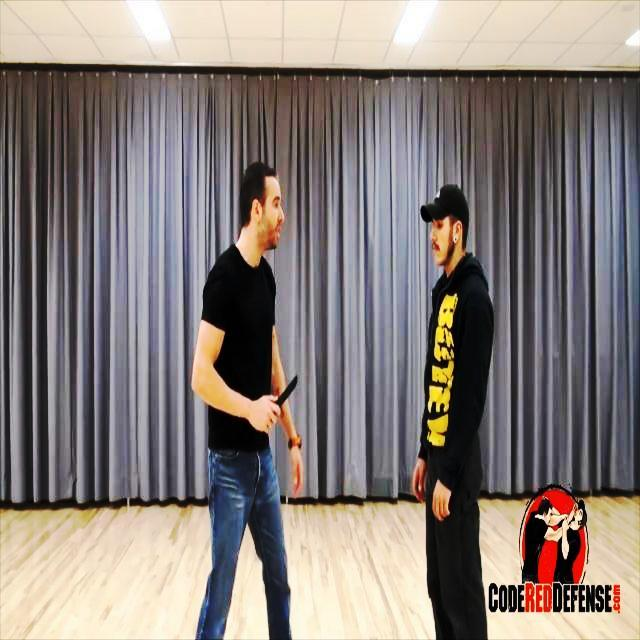Knife: (269, 376, 305, 418)
